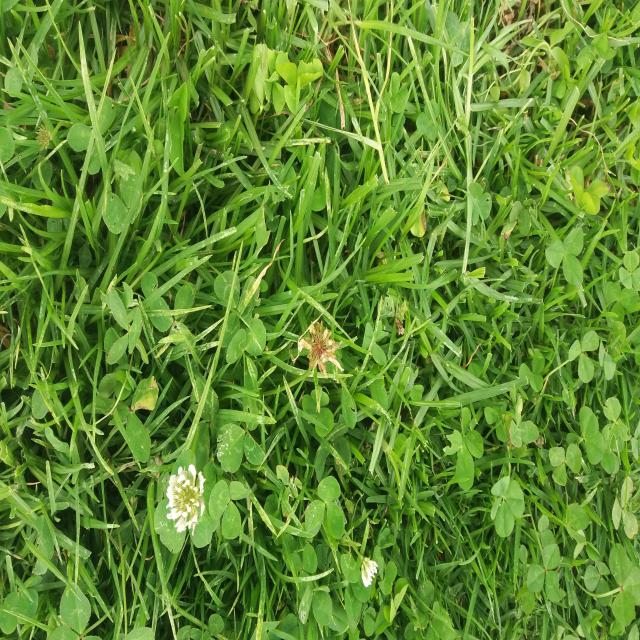Four Leaf Clover: (490, 476, 525, 537)
